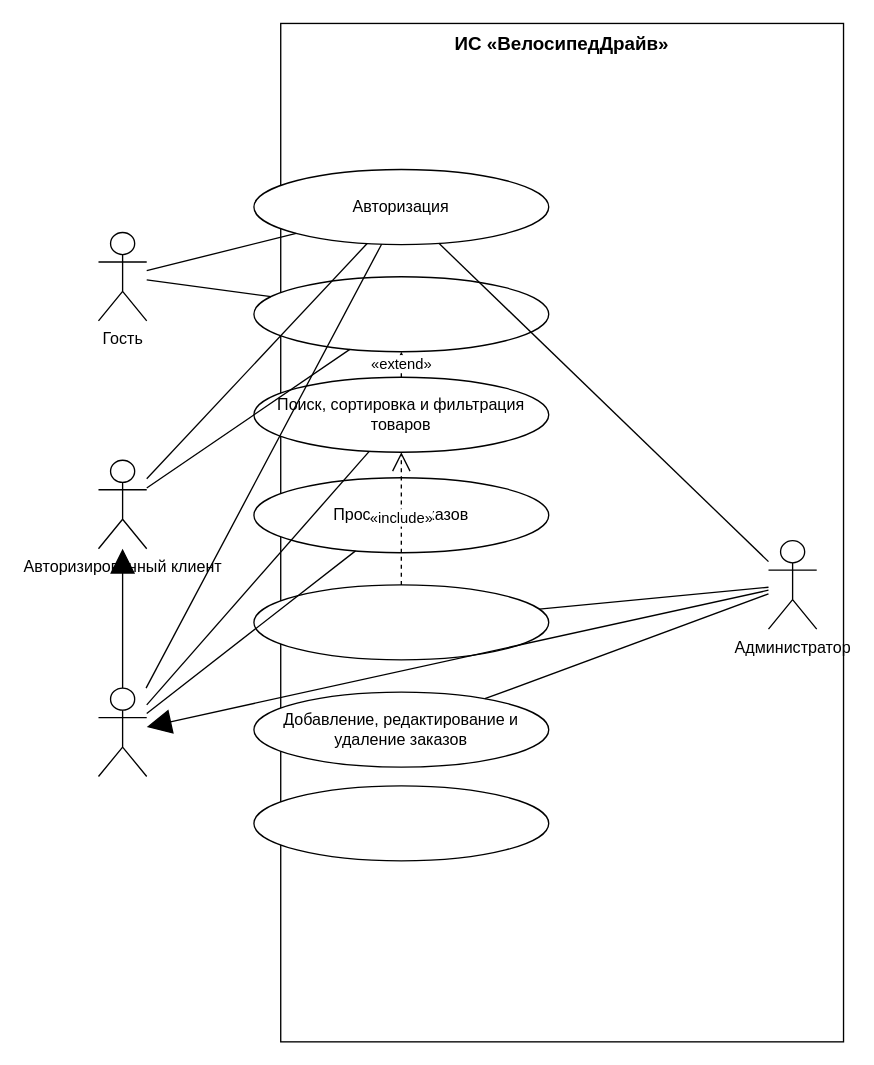
The diagram is 874 pixels wide and 1065 high, and some of its shapes have lost their labels. Here are the shapes that lost their labels. From the top down, the centre of each, then its label:
At point 401,313: "Просмотр списка товаров".
At point 401,622: "Добавление, редактирование и удаление товаров".
At point 122,732: "Менеджер".
At point 401,823: "Выход на окно входа".
